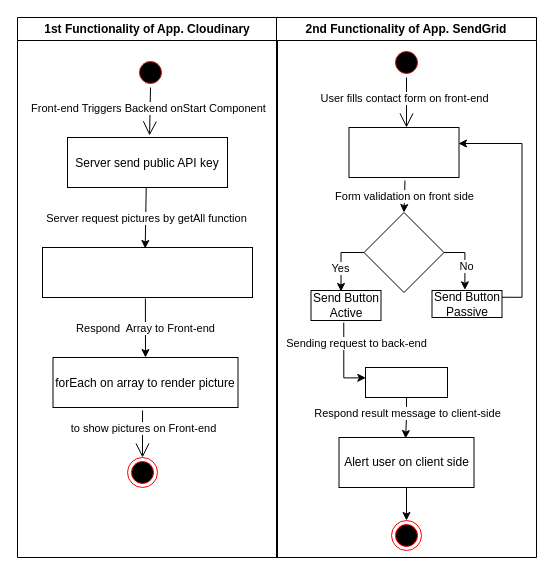
Image size: 554x575. Some labels were removed from this diagram. The shapes that lost their labels are listed below. From the top down, each one's centre as x and y in pixels, then its label:
the point at 403,152: Contact form
the point at 147,272: saving pictures URL as array
the point at 403,252: Required fields filled
the point at 406,382: Mail send via SendGrid API
